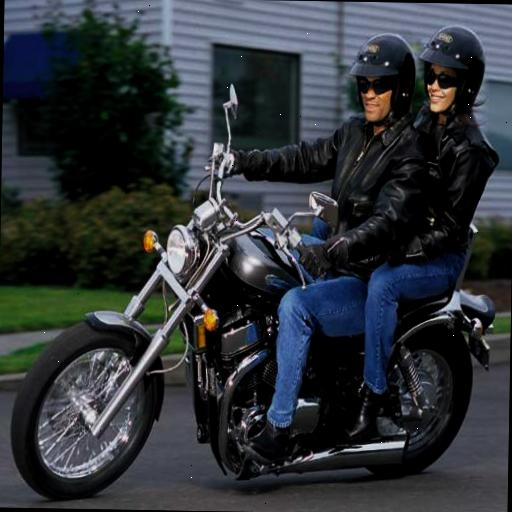helmet: (145, 19, 420, 472)
